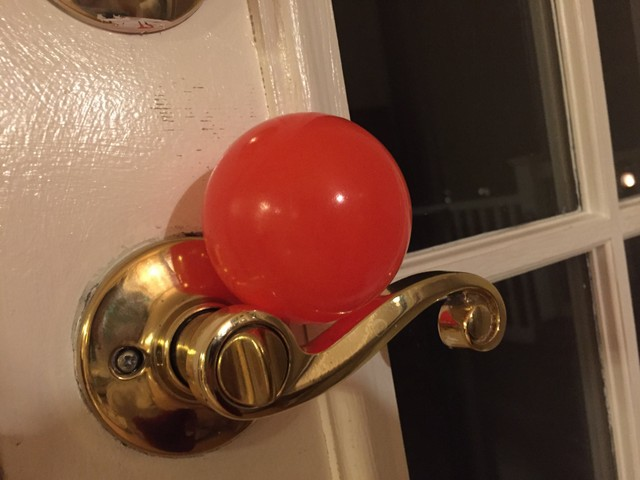Ball: (199, 115, 413, 321)
